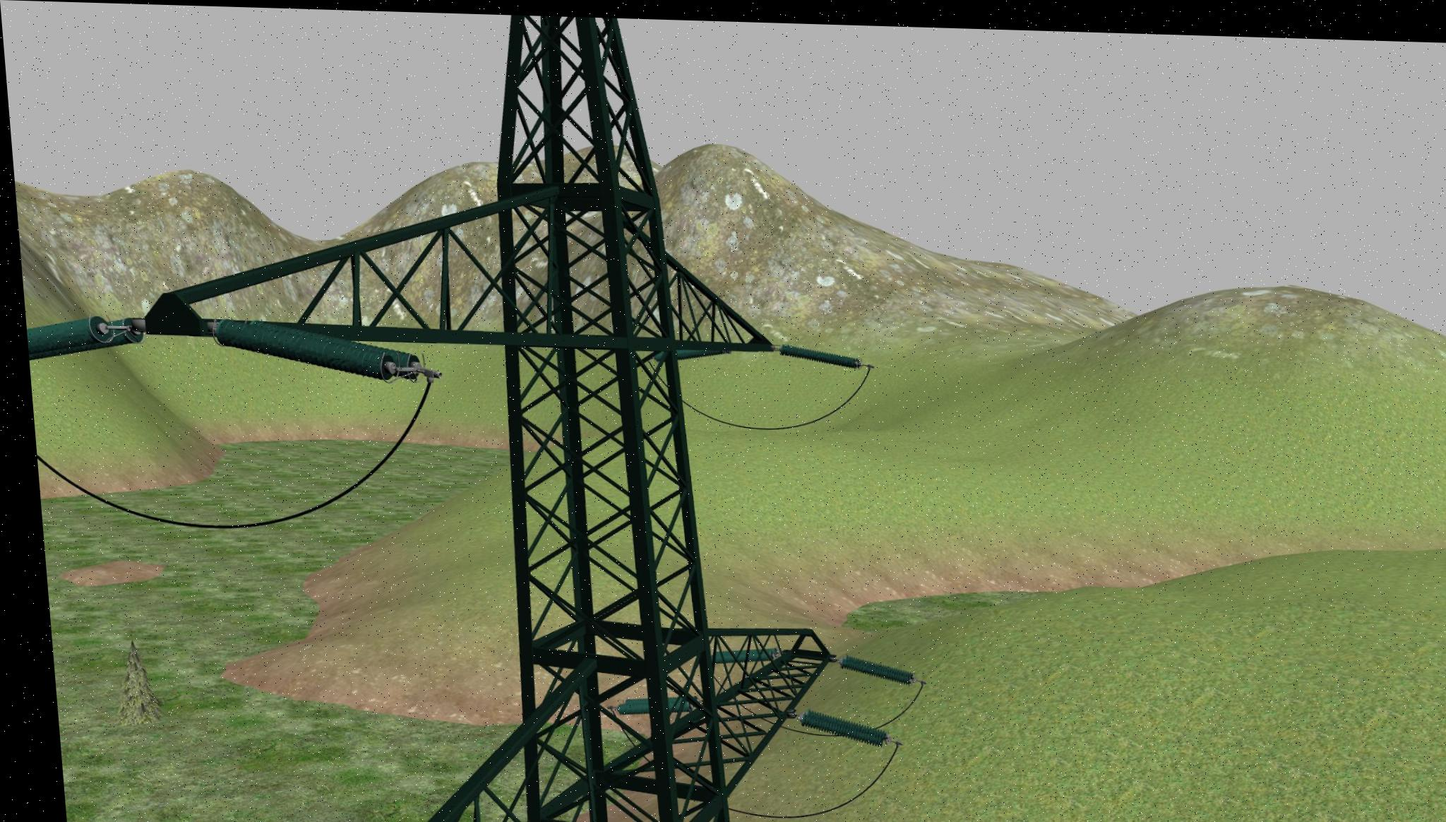tower: (132, 4, 844, 822)
